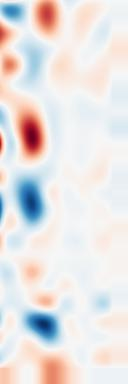filament: (6, 95, 53, 167)
